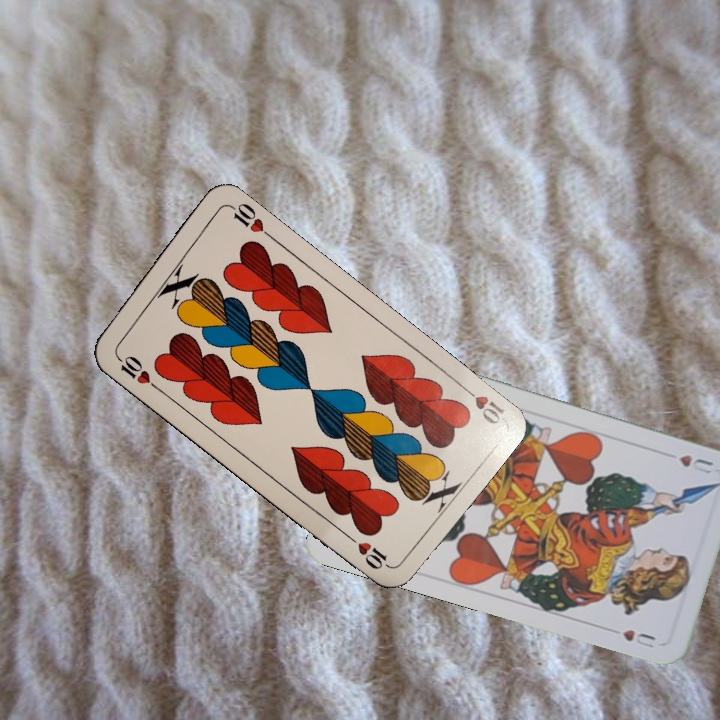H10: (456, 380, 507, 427), (111, 349, 161, 392)
HU: (675, 450, 716, 477)
